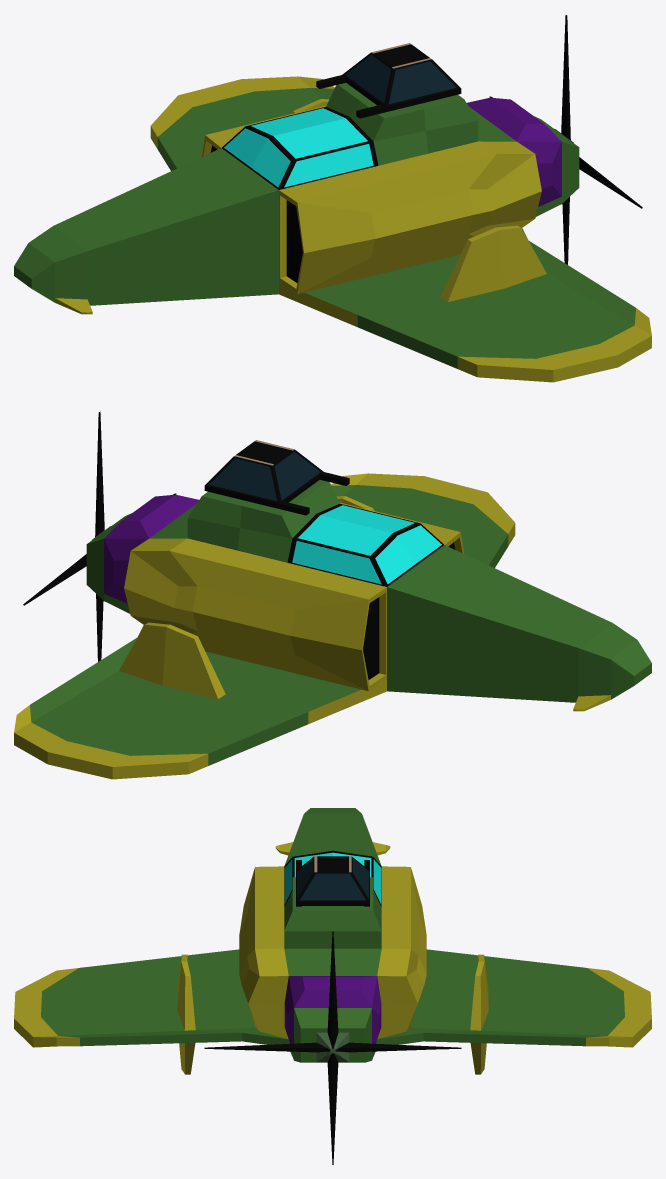
Rendered from ModelThunder.fbx.
3 views of the same model, one above another, from view 1: azimuth 30°, elevation 25°; view 2: azimuth 150°, elevation 25°; view 3: azimuth 270°, elevation 25° (orthographic). The views are drawn at different scales.
Visible parts, largest first — view 1: Cube, Cube.001, Cube.002; view 2: Cube, Cube.001, Cube.002; view 3: Cube, Cube.002, Cube.001.
Part boxes in pixels (x1=…): Cube: x1=14, y1=76, x2=651, y2=382; Cube.001: x1=316, y1=43, x2=461, y2=118; Cube.002: x1=489, y1=15, x2=642, y2=264; Cube: x1=14, y1=473, x2=651, y2=779; Cube.001: x1=204, y1=440, x2=349, y2=515; Cube.002: x1=23, y1=412, x2=176, y2=661; Cube: x1=14, y1=808, x2=651, y2=1074; Cube.002: x1=204, y1=931, x2=461, y2=1164; Cube.001: x1=296, y1=856, x2=369, y2=906.
Bounding box in the file's own units: 1103 × 529 × 1310.
